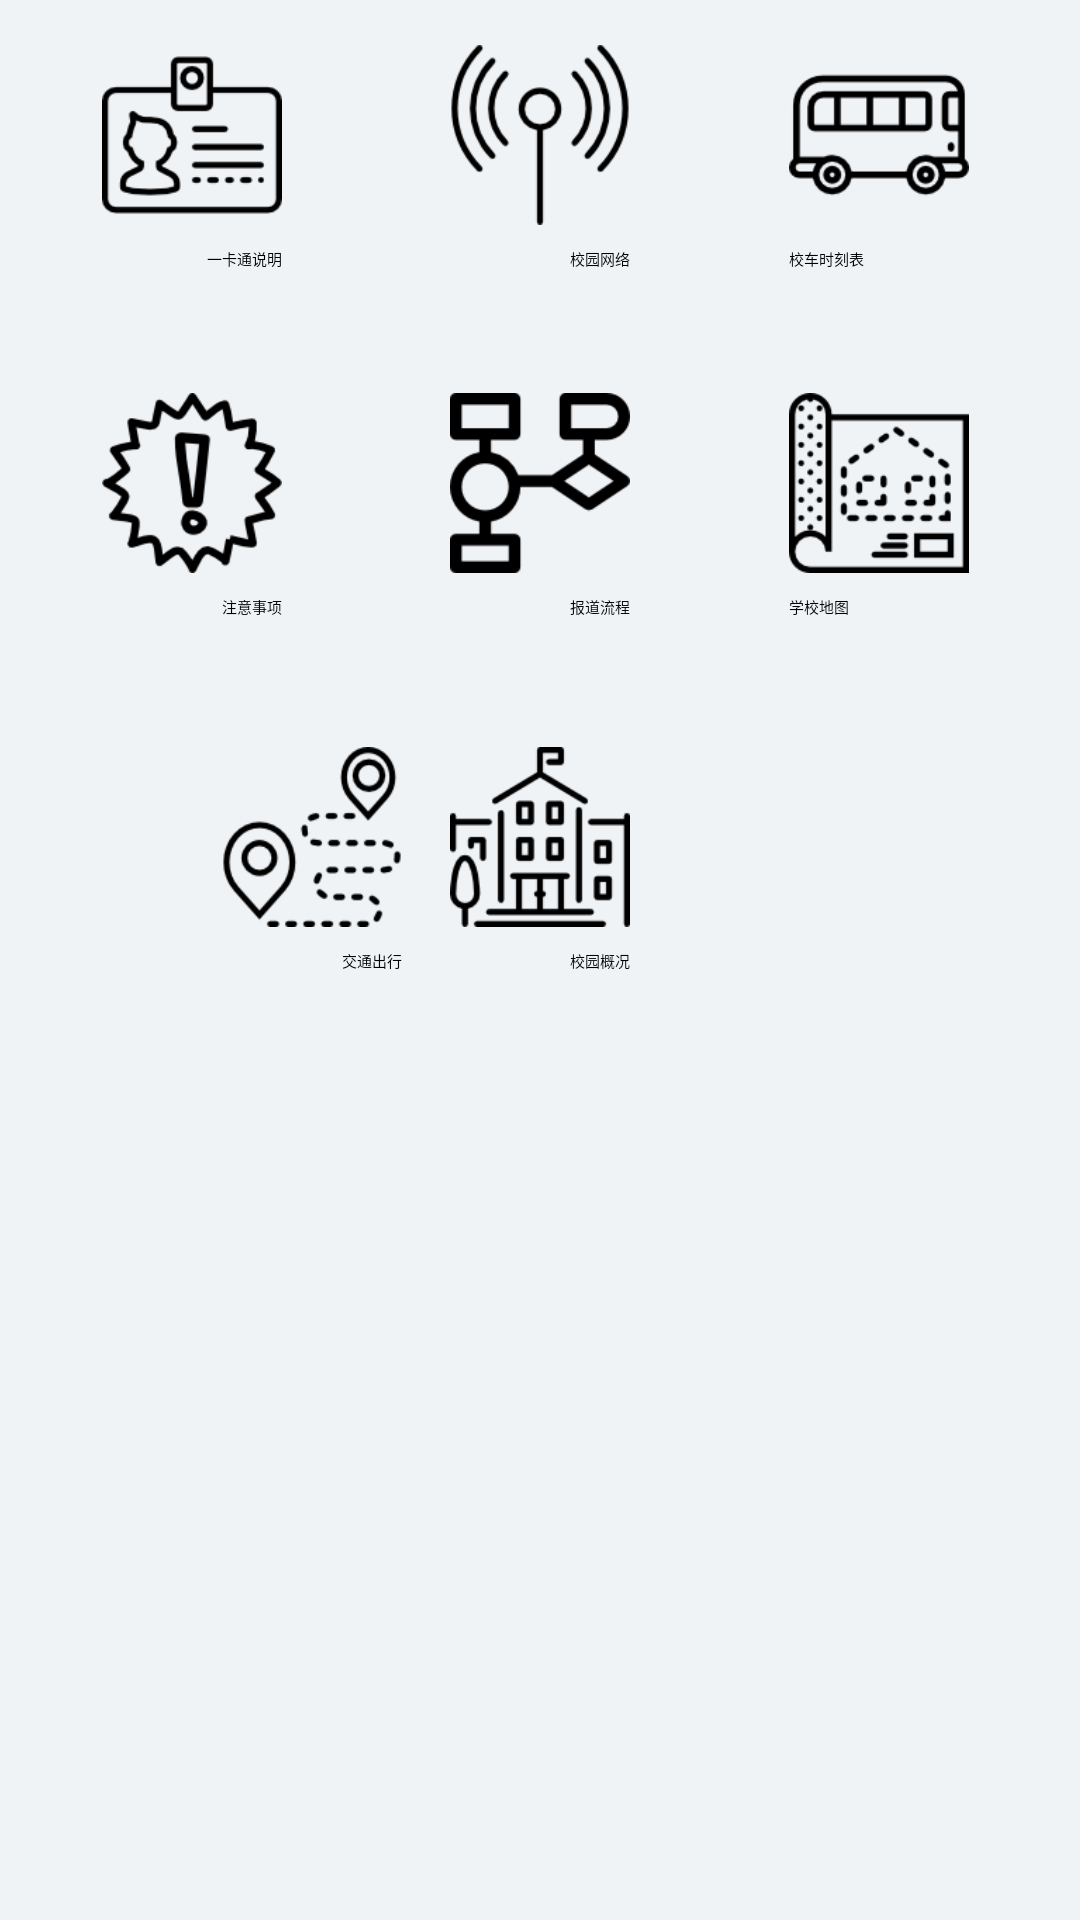

Where icons sit on this 1080x1920 app screen, as (left=x1, top=y1, right=x2, bottom=y2):
route: (left=223, top=747, right=402, bottom=969)
